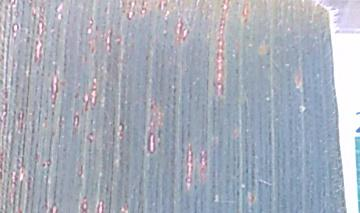tarspot: (234, 66, 240, 75), (40, 161, 46, 168), (145, 54, 150, 62)
